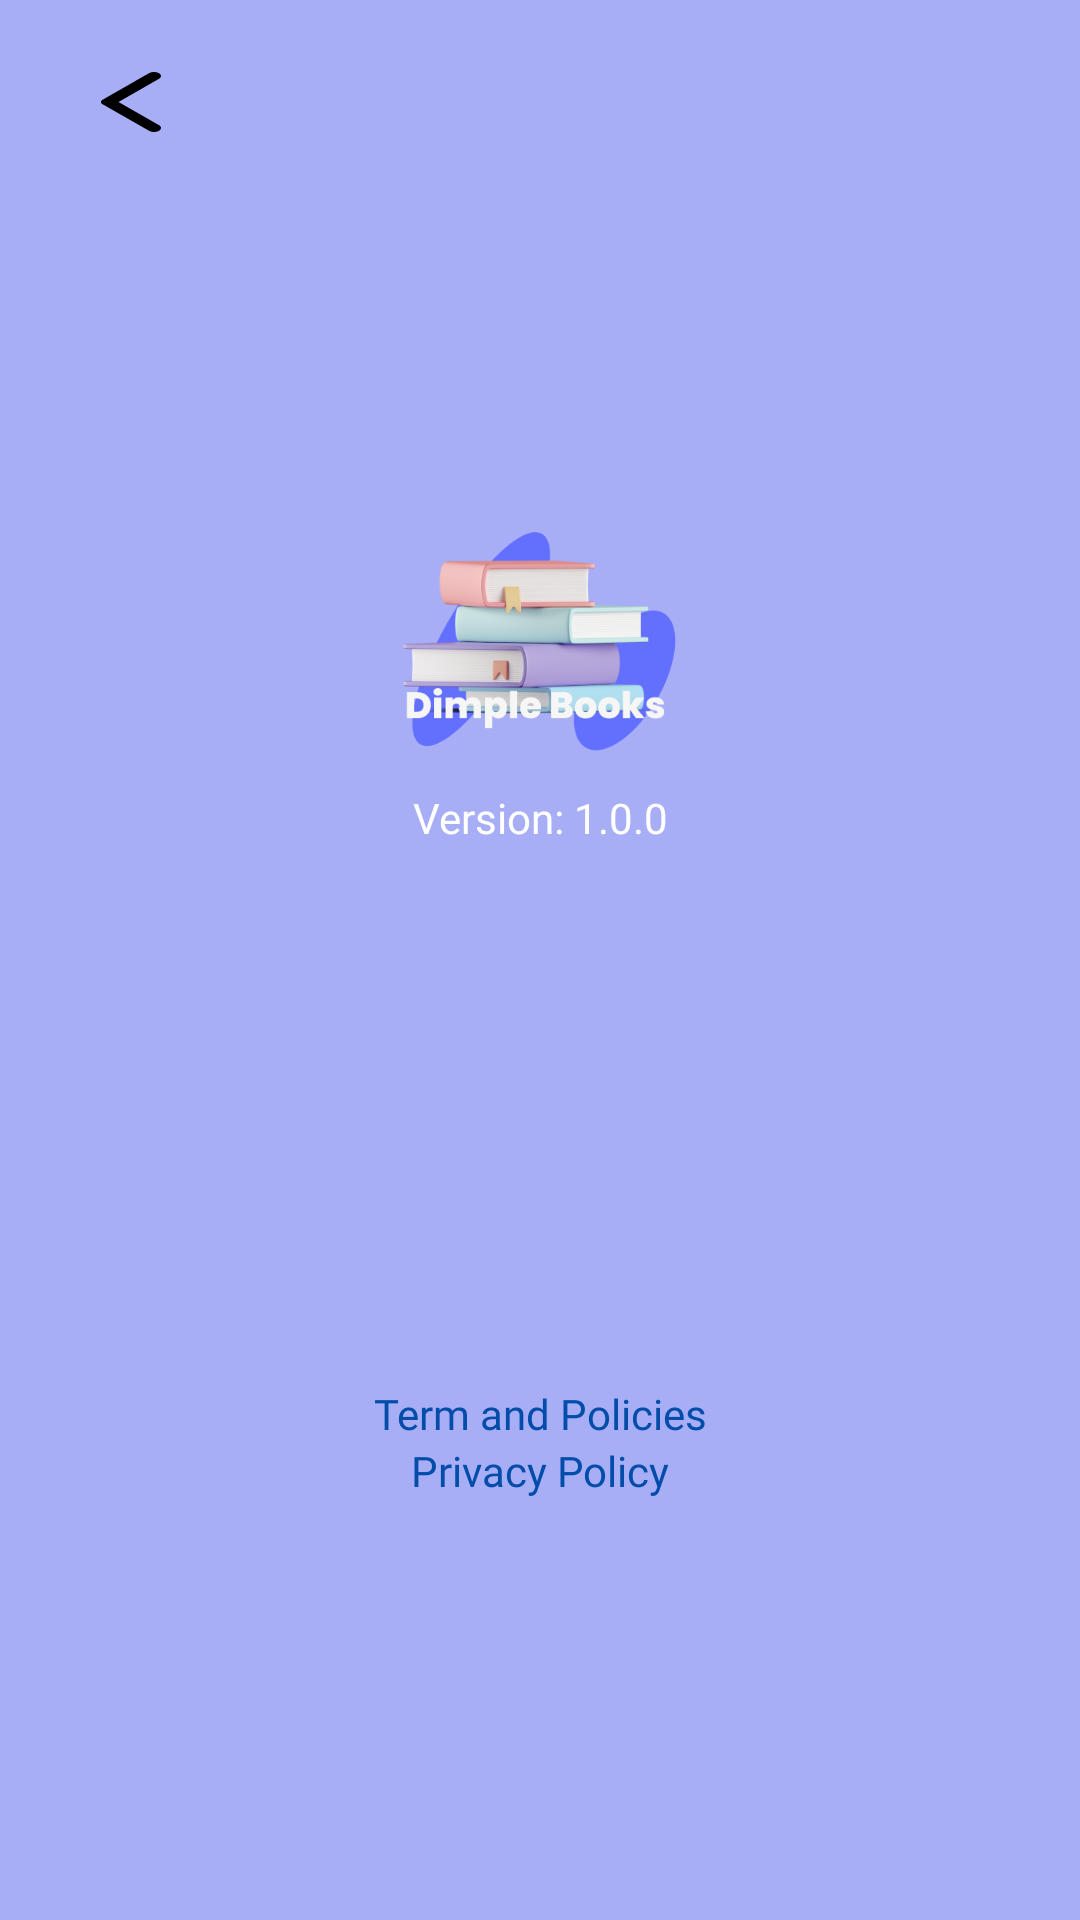

Locate icon controls on the screen. Image size 1080*1920, boxes as (x1, y1, x2, y2).
arrow back: (101, 72, 161, 132)
